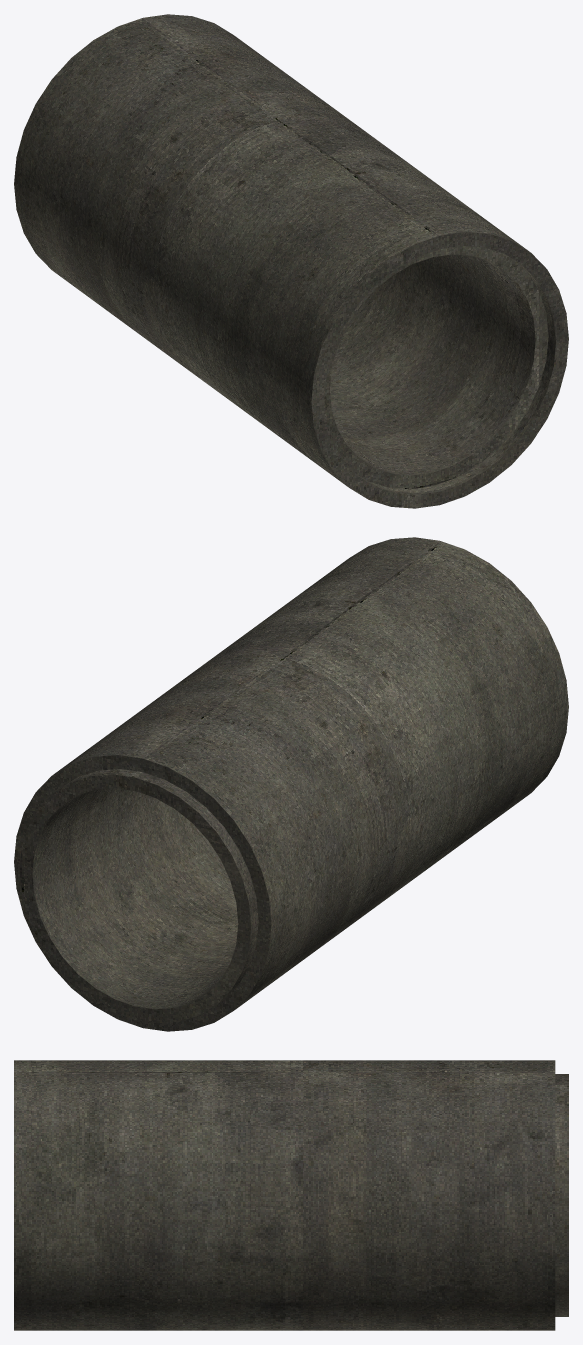
The model's file is concrete_pipe_hm_1_middle.glb.
The picture shows the model from 3 angles, top to bottom: view 1: azimuth 30°, elevation 25°; view 2: azimuth 150°, elevation 25°; view 3: azimuth 270°, elevation 25°; orthographic projection. The views are drawn at different scales.
Parts seen in each view (by area): view 1: concrete_pipe_hm_1_middle; view 2: concrete_pipe_hm_1_middle; view 3: concrete_pipe_hm_1_middle.
Part boxes in pixels (bbox=[...]): concrete_pipe_hm_1_middle: bbox=[14, 14, 568, 508]; concrete_pipe_hm_1_middle: bbox=[14, 537, 568, 1031]; concrete_pipe_hm_1_middle: bbox=[14, 1060, 568, 1330].
Size of the model in its own units: 2 by 2 by 4.1.
Materials: 1 (1 with a texture image).
